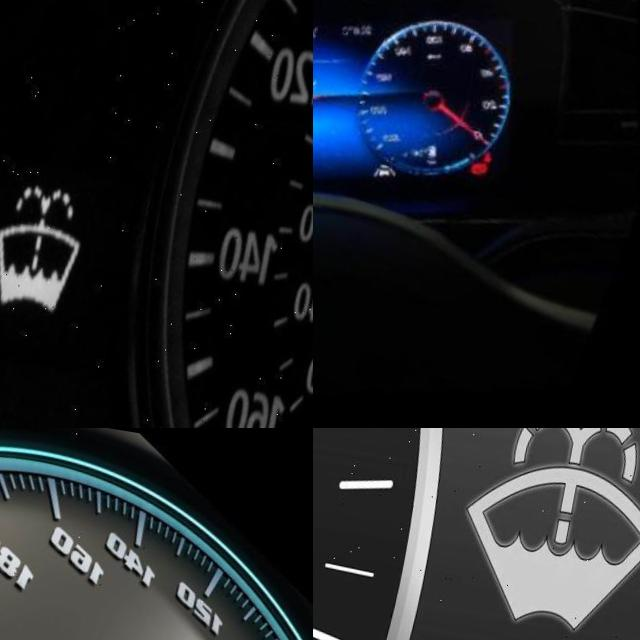Low fuel level: (438, 130, 455, 148)
Washer Fluid: (463, 428, 640, 630), (0, 168, 101, 303)
